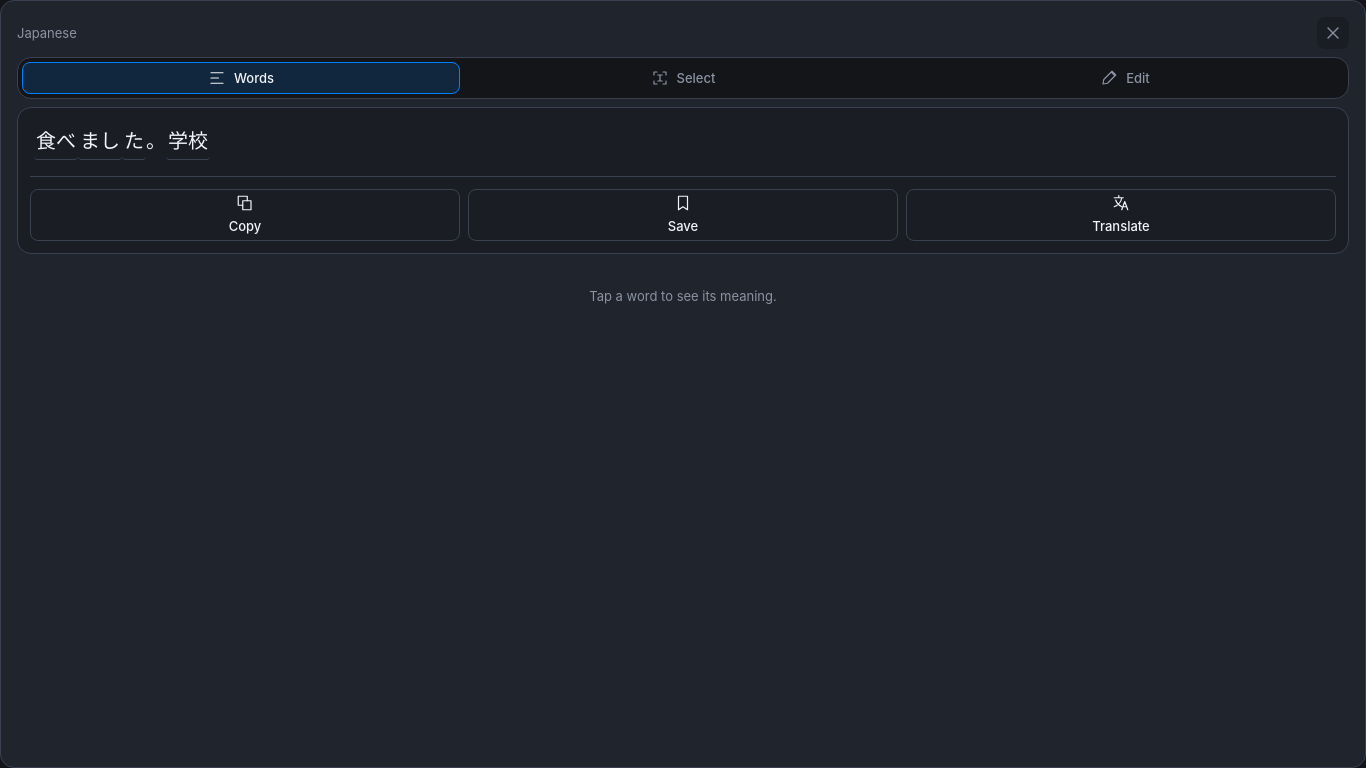
Test: shows a local full-expression breakdown on a stem click and clears it for a noun
Click the button "食べ" at point(56, 142), box x1=34 y1=124 x2=78 y2=160
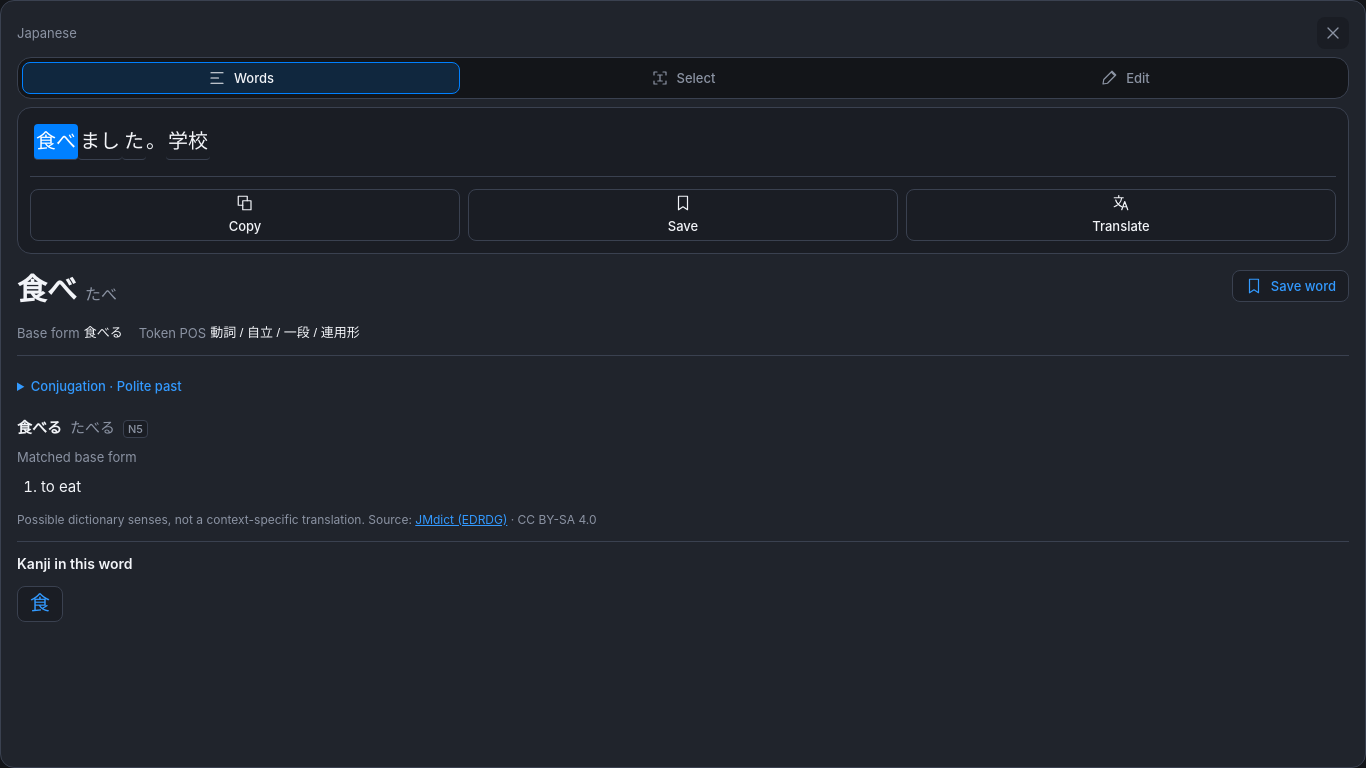
Expected: the heading "Conjugation · Polite past" is shown, x1=31 y1=378 x2=182 y2=394
Click the button "学校" at point(188, 142), box x1=166 y1=124 x2=210 y2=160
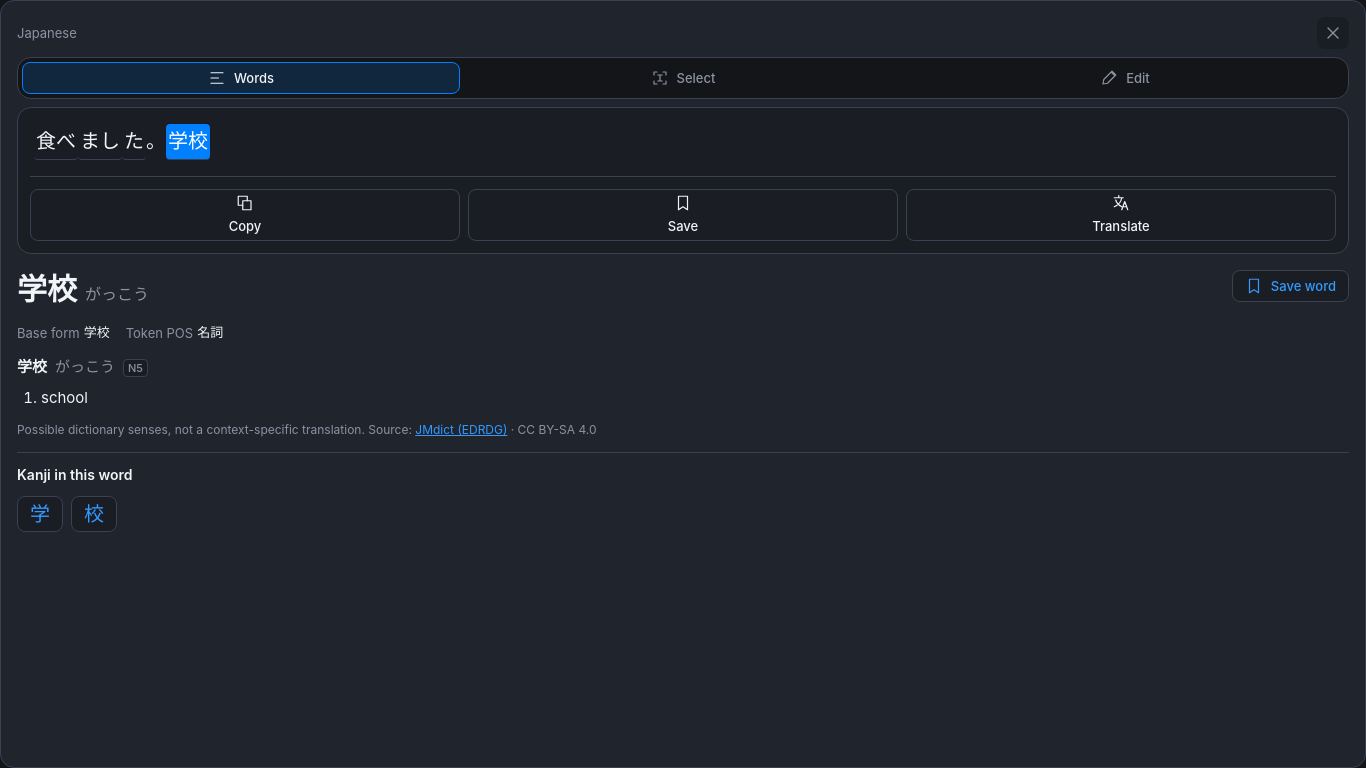
Expected: the element with class "conjugation-explanation" is gone
